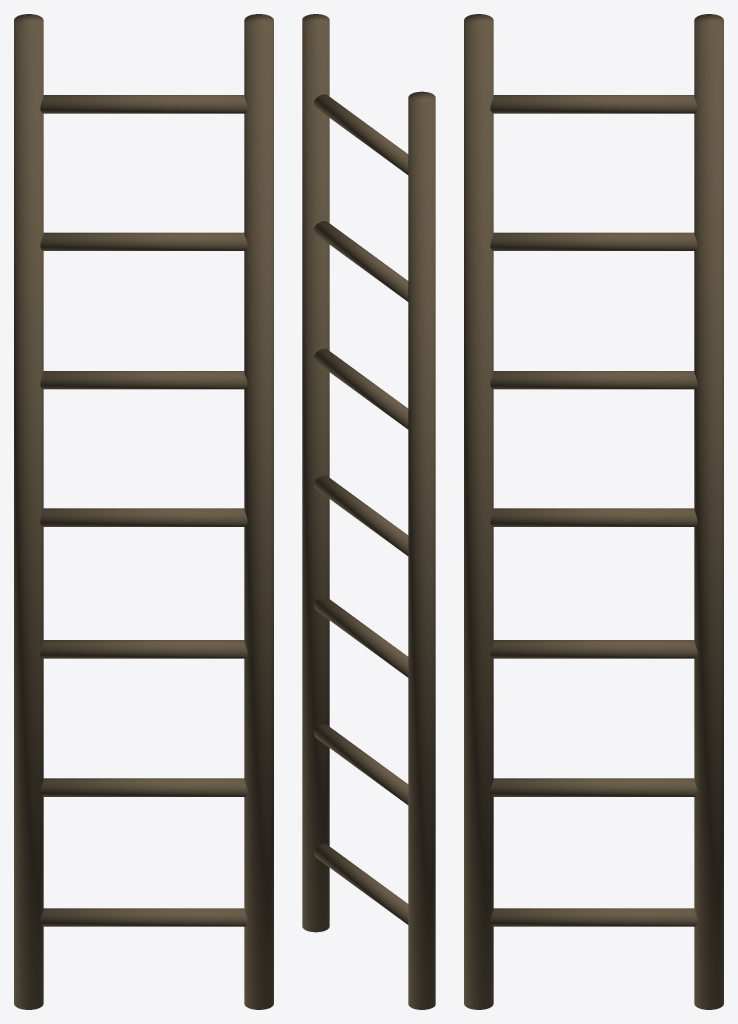
Rendered from Escalera.fbx.
3 views of the same model, side by side, from view 1: azimuth 90°, elevation 25°; view 2: azimuth 210°, elevation 25°; view 3: azimuth 270°, elevation 25° (orthographic). The views are drawn at different scales.
Visible parts, largest first — view 1: Cilindro; view 2: Cilindro; view 3: Cilindro.
Boxes of the visible parts, left/top/right/bottom form: Cilindro: left=14, top=14, right=273, bottom=1009; Cilindro: left=302, top=14, right=435, bottom=1009; Cilindro: left=464, top=14, right=723, bottom=1009.
Size of the model in its own units: 19.85 by 725 by 174.
